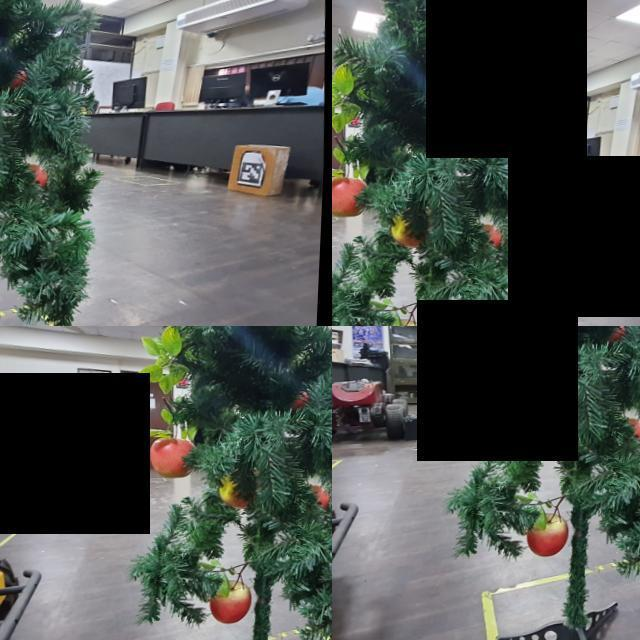Tree: (439, 327, 640, 640), (333, 1, 523, 327), (226, 327, 333, 640), (1, 1, 66, 327)
